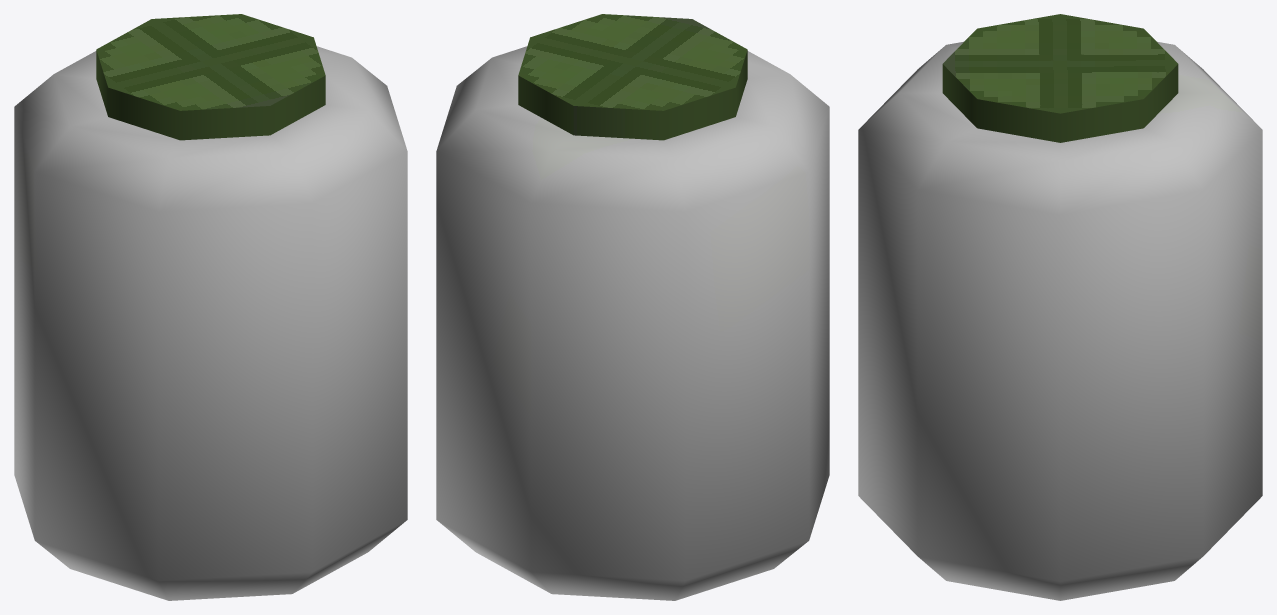
The model's file is flask1.glb.
3 renders of one model, left to right at view 1: azimuth 30°, elevation 25°; view 2: azimuth 150°, elevation 25°; view 3: azimuth 270°, elevation 25°, orthographic.
Parts seen in each view (by area): view 1: Flask1; view 2: Flask1; view 3: Flask1.
Boxes of the visible parts, x1,y1,x2,y2 form: Flask1: [14, 14, 407, 600]; Flask1: [436, 14, 829, 600]; Flask1: [858, 14, 1262, 600].
Size of the model in its own units: 0.5 by 0.64 by 0.5.
Materials: 1 (1 with a texture image).
